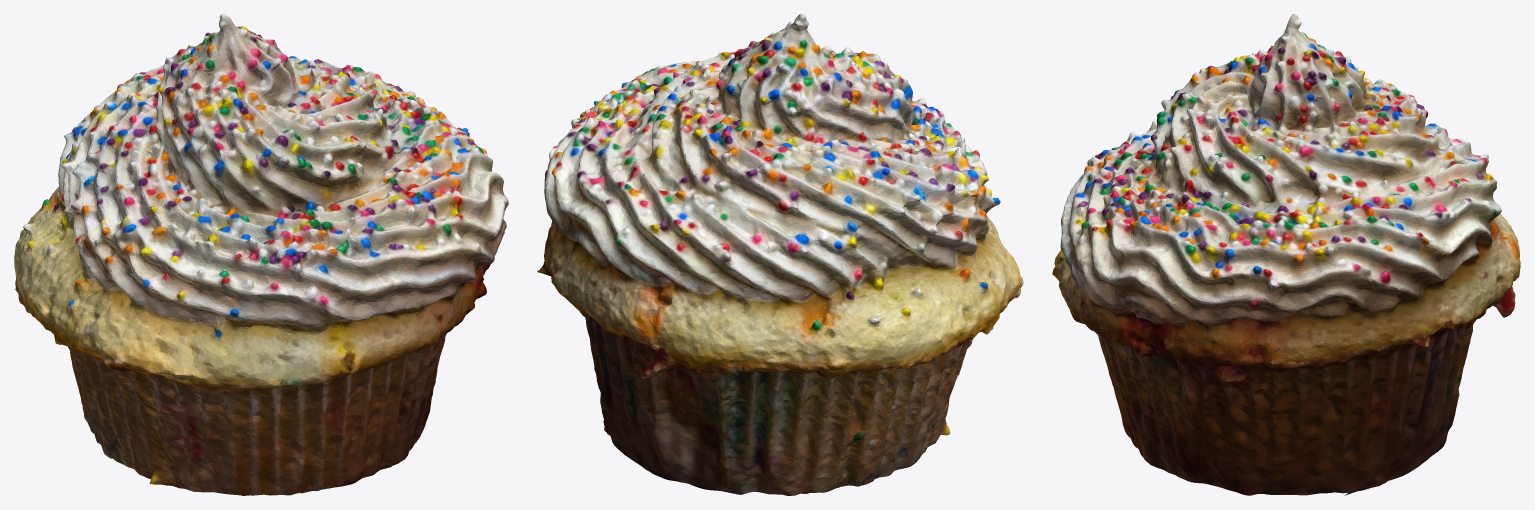
Rendered from CupCake_lt.glb.
The picture shows the model from 3 angles, left to right: view 1: azimuth 30°, elevation 25°; view 2: azimuth 150°, elevation 25°; view 3: azimuth 270°, elevation 25°; orthographic projection. The views are drawn at different scales.
Size of the model in its own units: 0.0771 by 0.0751 by 0.0795.
1 material, 1 textured.
